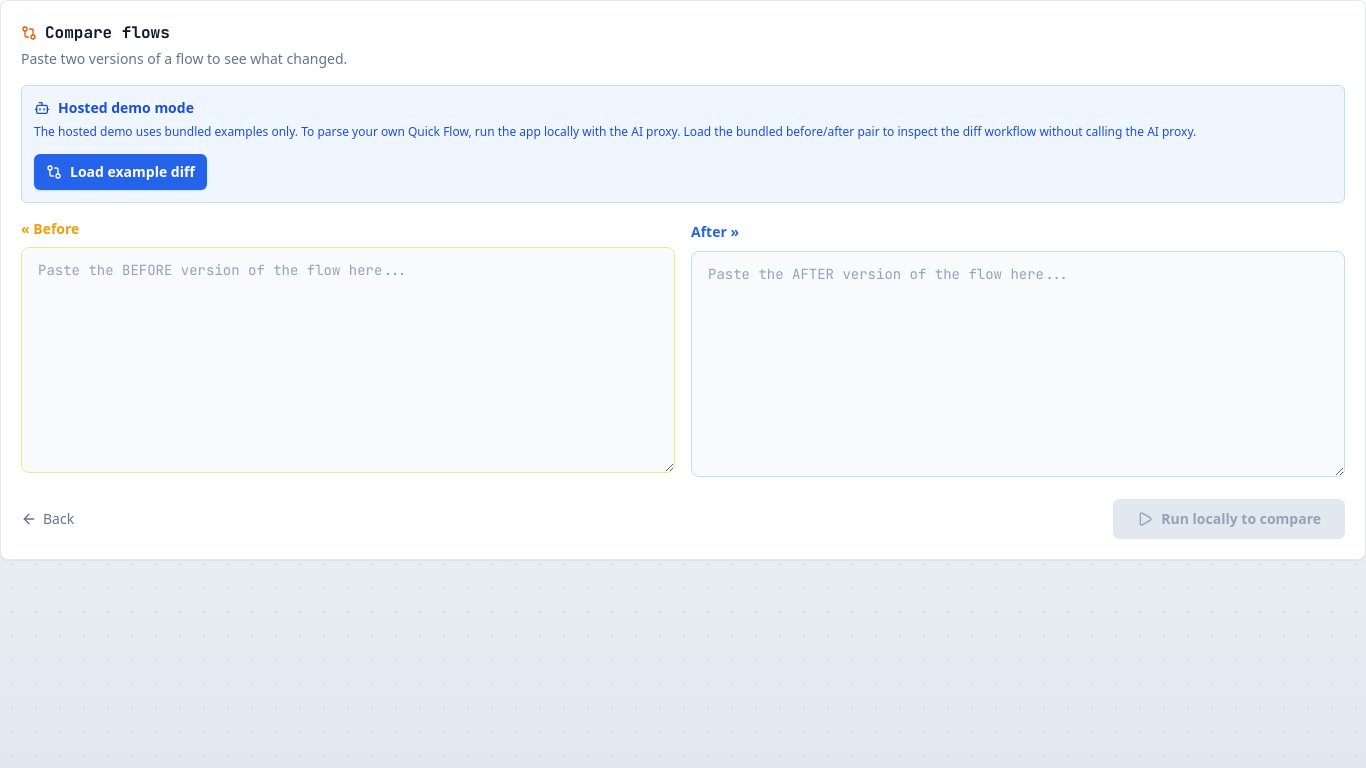
DiffPhase › hosted demo mode › loads the bundled example diff without parsing raw text
Click the button "Load example diff" at [120, 172], box [34,154,207,190]
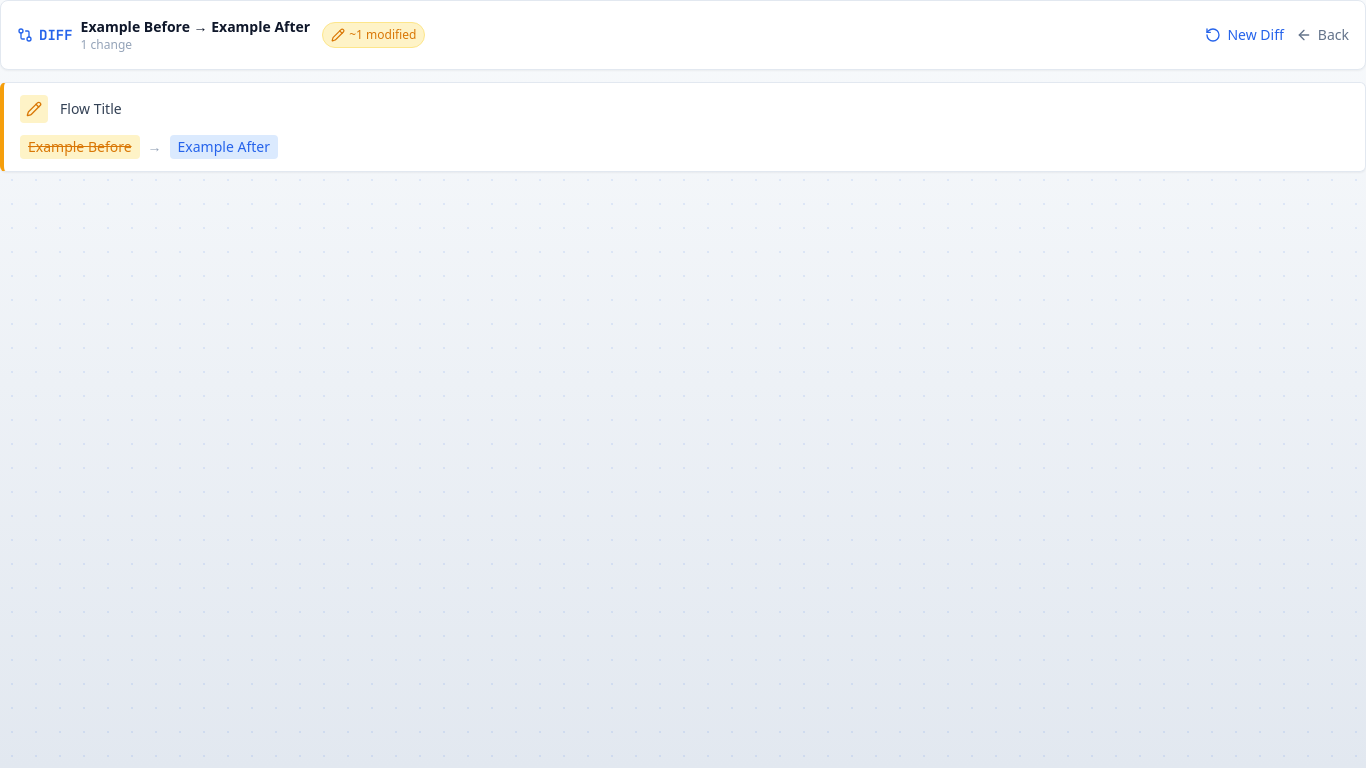
Expected: the text "DIFF" is shown, [17,25,73,45]
Expected: the text "Example Before" is shown, [81,17,190,36]
Expected: the text "Example After" is shown, [211,17,310,36]
